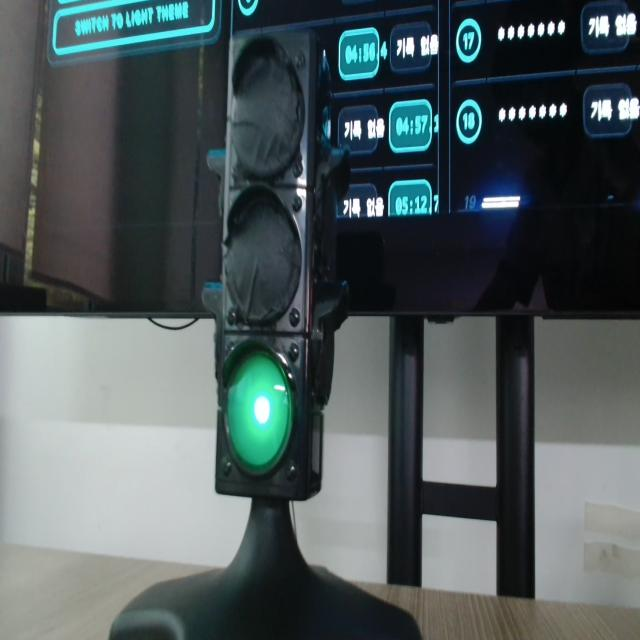green_light: (227, 352, 292, 472)
